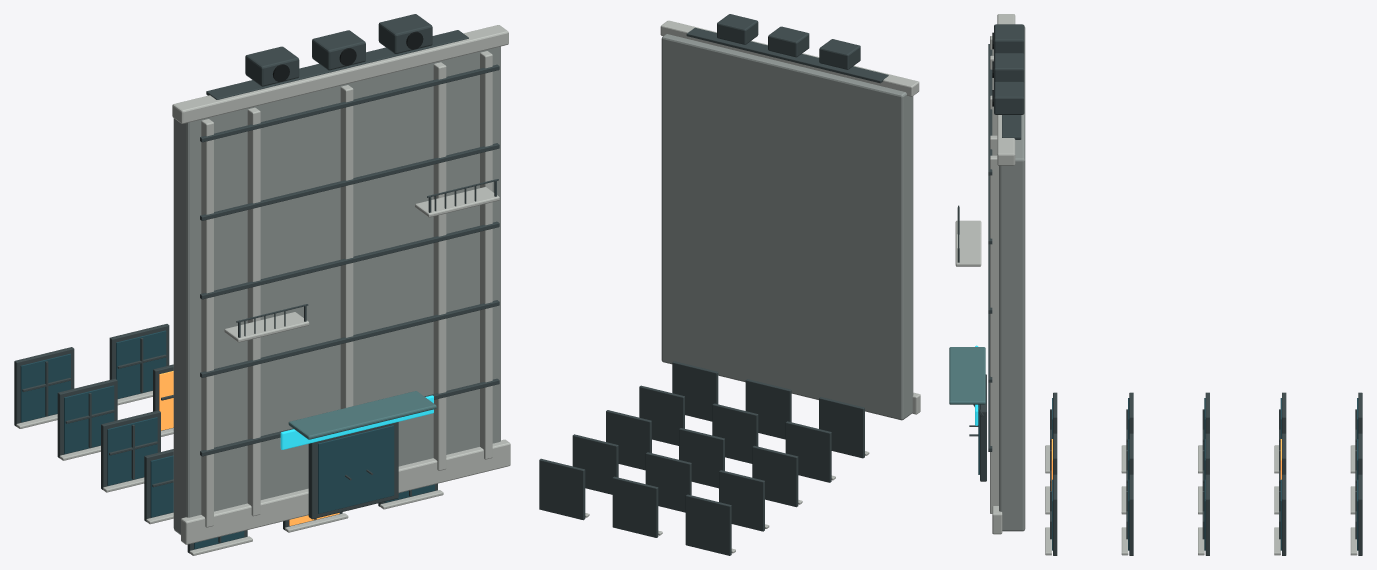
The model's file is facadeA.glb.
3 renders of one model, left to right at view 1: azimuth 30°, elevation 25°; view 2: azimuth 150°, elevation 25°; view 3: azimuth 270°, elevation 25°, orthographic. The views are drawn at different scales.
Parts seen in each view (by area): view 1: FacadeA_MainShell, Balcony_Slab.001, Balcony_Rail.001, FacadeA_EntryGlass, FacadeA_EntranceCanopy, FacadeA_Port_Sign, Window_Recess.010, FacadeA_ACFan; view 2: FacadeA_MainShell, Balcony_Rail.001, Balcony_Slab.001; view 3: Balcony_Rail.001, FacadeA_MainShell, Balcony_Slab.001, FacadeA_EntranceCanopy, FacadeA_EntryGlass.
Boxes of the visible parts, bbox=[...] form: FacadeA_MainShell: bbox=[173, 46, 500, 534]; Balcony_Slab.001: bbox=[16, 25, 510, 555]; Balcony_Rail.001: bbox=[14, 14, 499, 553]; FacadeA_EntryGlass: bbox=[20, 330, 434, 549]; FacadeA_EntranceCanopy: bbox=[288, 391, 436, 439]; FacadeA_Port_Sign: bbox=[280, 395, 433, 449]; Window_Recess.010: bbox=[159, 371, 339, 525]; FacadeA_ACFan: bbox=[273, 31, 423, 82]; FacadeA_MainShell: bbox=[661, 34, 913, 420]; Balcony_Rail.001: bbox=[539, 14, 888, 555]; Balcony_Slab.001: bbox=[585, 20, 920, 553]; Balcony_Rail.001: bbox=[957, 24, 1362, 555]; FacadeA_MainShell: bbox=[999, 25, 1025, 531]; Balcony_Slab.001: bbox=[955, 14, 1357, 555]; FacadeA_EntranceCanopy: bbox=[949, 347, 985, 404]; FacadeA_EntryGlass: bbox=[978, 398, 1358, 550].
Size of the model in its own units: 13.75 by 20.14 by 17.06.
